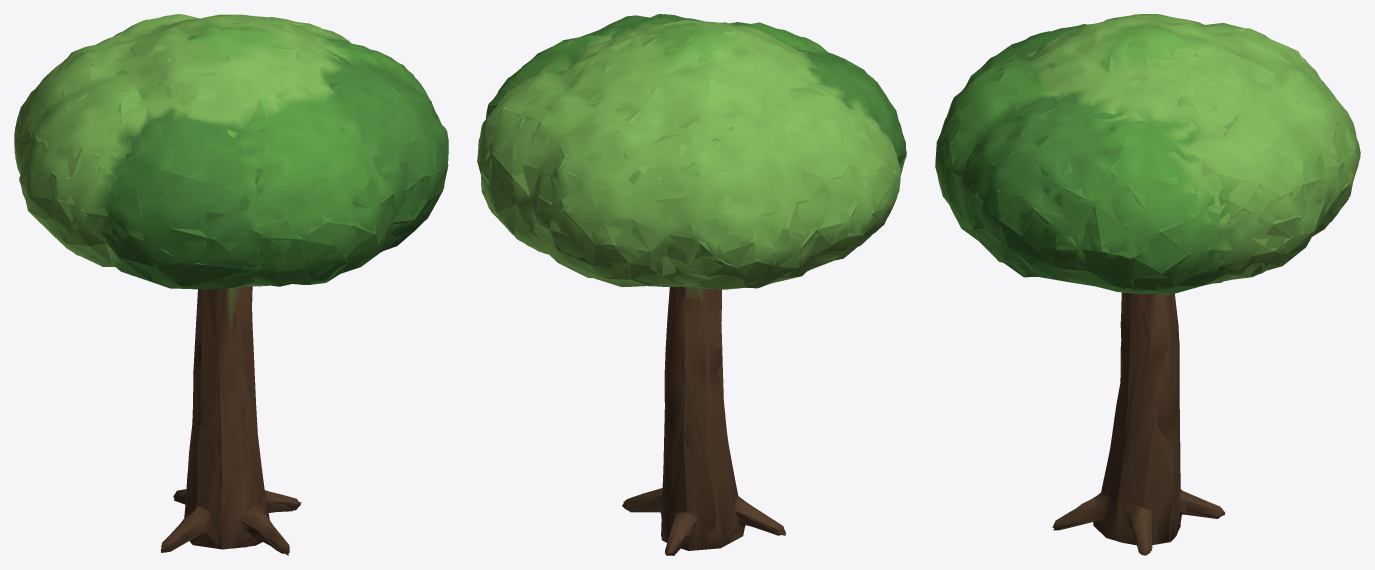
File: broadleaf_mature_continuous_dense.glb
The picture shows the model from 3 angles, left to right: view 1: azimuth 30°, elevation 25°; view 2: azimuth 150°, elevation 25°; view 3: azimuth 270°, elevation 25°; orthographic projection.
Parts seen in each view (by area): view 1: broadleaf_mature_continuous_dense_LOD1, broadleaf_mature_continuous_dense_LOD2; view 2: broadleaf_mature_continuous_dense_LOD1, broadleaf_mature_continuous_dense_LOD2; view 3: broadleaf_mature_continuous_dense_LOD1, broadleaf_mature_continuous_dense_LOD2.
Part boxes in pixels (left/top/right/bottom): broadleaf_mature_continuous_dense_LOD1: left=14, top=14, right=448, bottom=553; broadleaf_mature_continuous_dense_LOD2: left=14, top=14, right=448, bottom=555; broadleaf_mature_continuous_dense_LOD1: left=477, top=14, right=906, bottom=555; broadleaf_mature_continuous_dense_LOD2: left=477, top=14, right=906, bottom=555; broadleaf_mature_continuous_dense_LOD1: left=935, top=14, right=1360, bottom=555; broadleaf_mature_continuous_dense_LOD2: left=935, top=14, right=1360, bottom=555.
Size of the model in its own units: 3.93 by 4.88 by 3.77.
